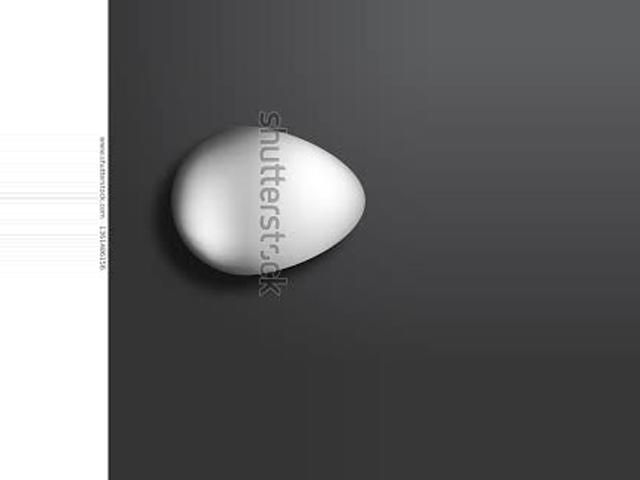egg: (172, 126, 366, 275)
